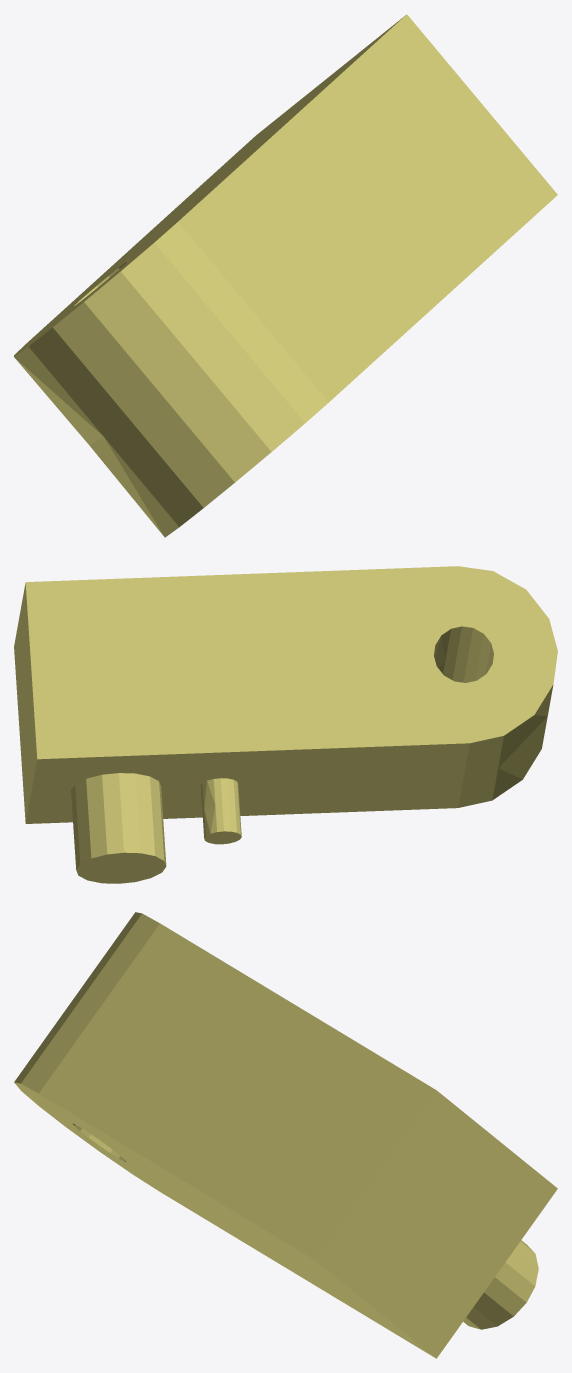
The model's file is LARM_THUMB1_LINK_mesh.dae.
3 views of the same model, one above another, from view 1: azimuth 30°, elevation 25°; view 2: azimuth 150°, elevation 25°; view 3: azimuth 270°, elevation 25° (orthographic). The views are drawn at different scales.
Visible parts, largest first — view 1: LARM_THUMB1_LINK; view 2: LARM_THUMB1_LINK; view 3: LARM_THUMB1_LINK.
Part boxes in pixels (<box>): LARM_THUMB1_LINK: <box>14,14,557,537</box>; LARM_THUMB1_LINK: <box>14,566,557,883</box>; LARM_THUMB1_LINK: <box>14,912,557,1358</box>.
Size of the model in its own units: 0.0295 by 0.0155 by 0.026.
